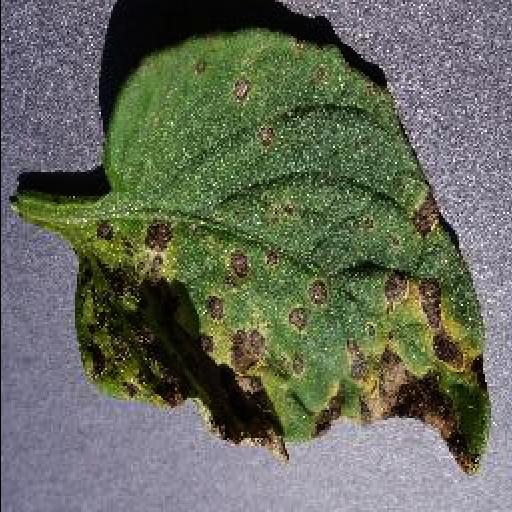disease_tomato: (78, 32, 494, 478)
